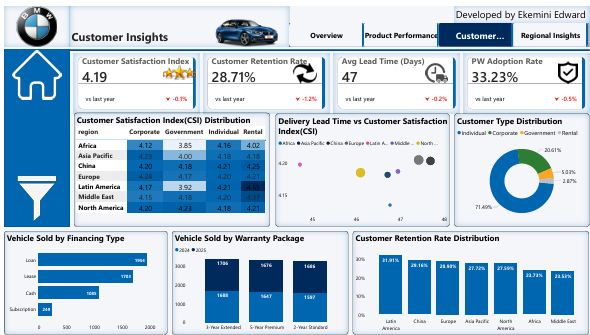

Layout of this report page (visuals, bound fields, positions):
{"tool":"powerbi","page":{"name":"Customer Insights","canvas":[1920,1080],"ordinal":2},"visuals":[{"type":"shape","box":[0,141.2,215.1,582.6],"z":0},{"type":"image","box":[0,560.2,215.1,145.6],"z":0,"group":"g1"},{"type":"shape","box":[215.1,125.5,1705.1,38.1],"z":1000},{"type":"image","box":[687.9,35.9,219.6,107.6],"z":2000},{"type":"image","box":[0,0,216,134.4],"z":3000},{"type":"textbox","box":[216,0,718.5,134.4],"z":4000},{"type":"image","box":[0,145.6,215.1,161.3],"z":5000},{"type":"cardVisual","fields":{"Data":["_Measures.Avg Customer Satisfaction"]},"box":[228.5,154.6,412.3,197.2],"z":6000},{"type":"cardVisual","fields":{"Data":["_Measures.Retention Rate"]},"box":[655.2,154.6,412,197.2],"z":7000},{"type":"cardVisual","fields":{"Data":["_Measures.PW Adoption Rate"]},"box":[1508,154.6,412.3,197.2],"z":8000},{"type":"cardVisual","fields":{"Data":["_Measures.Avg Delivery Lead Time"]},"box":[1081.6,154.6,412,197.2],"z":9000},{"type":"donutChart","title":"Customer Type Distribution","fields":{"Y":["_Measures.Revenue"],"Category":["Transaction_Fact.customer_type"]},"box":[1476.6,351.8,443.7,372],"z":10000},{"type":"clusteredBarChart","title":"Vehicle Sold by Financing Type","fields":{"Category":["Transaction_Fact.financing_type"],"Y":["_Measures.Vehicles Sold"]},"box":[0,739.4,535.5,340.6],"z":11000},{"type":"columnChart","title":"Vehicle Sold by Warranty Package","fields":{"Series":["Date.Year"],"Category":["Transaction_Fact.warranty_package"],"Y":["_Measures.Vehicles Sold"]},"box":[551.2,739.4,578.1,340.6],"z":12000},{"type":"pivotTable","title":"Customer Satisfaction Index(CSI) Distribution","fields":{"Rows":["Transaction_Fact.region"],"Columns":["Transaction_Fact.customer_type"],"Values":["_Measures.Satisfaction Index"]},"box":[228.5,349.5,643.1,374.2],"z":13000},{"type":"scatterChart","title":"Delivery Lead Time vs Customer Satisfaction Index(CSI)","fields":{"Size":["_Measures.Vehicles Sold"],"X":["_Measures.Avg Delivery Lead Time"],"Y":["_Measures.Satisfaction Index"],"Series":["Transaction_Fact.region"]},"box":[889.5,351.8,571.4,372],"z":14000},{"type":"clusteredColumnChart","title":"Customer Retention Rate Distribution","fields":{"Category":["Transaction_Fact.region"],"Y":["_Measures.Retention Rate"]},"box":[1145,739.4,775.3,340.6],"z":15000},{"type":"pageNavigator","box":[934.5,55.1,985.2,79.3],"z":16000},{"type":"group","id":"g1","title":"Customer Insights Filter","box":[0,141.1,451.8,897.1],"z":17000},{"type":"image","box":[522.4,187.3,105.8,66.1],"z":18000},{"type":"image","box":[934.5,187.3,105.8,66.1],"z":19000},{"type":"image","box":[1362.1,182.9,114.6,72.7],"z":20000},{"type":"image","box":[1798.5,180.7,103.6,72.7],"z":21000},{"type":"textbox","box":[1476.7,0,443,55.1],"z":22000}]}

Visuals, with their boxes in screenshot pixels (x1, y1, x2, y2), scaled from the page's 1920x1080 canvas onto the 590x335 screenshot:
shape: {"left": 0, "top": 44, "right": 66, "bottom": 225}
image: {"left": 0, "top": 174, "right": 66, "bottom": 219}
shape: {"left": 66, "top": 39, "right": 589, "bottom": 51}
image: {"left": 211, "top": 11, "right": 279, "bottom": 45}
image: {"left": 0, "top": 0, "right": 66, "bottom": 42}
textbox: {"left": 66, "top": 0, "right": 287, "bottom": 42}
image: {"left": 0, "top": 45, "right": 66, "bottom": 95}
cardVisual - _Measures.Avg Customer Satisfaction: {"left": 70, "top": 48, "right": 197, "bottom": 109}
cardVisual - _Measures.Retention Rate: {"left": 201, "top": 48, "right": 328, "bottom": 109}
cardVisual - _Measures.PW Adoption Rate: {"left": 463, "top": 48, "right": 589, "bottom": 109}
cardVisual - _Measures.Avg Delivery Lead Time: {"left": 332, "top": 48, "right": 459, "bottom": 109}
"Customer Type Distribution" donutChart: {"left": 454, "top": 109, "right": 589, "bottom": 225}
"Vehicle Sold by Financing Type" clusteredBarChart: {"left": 0, "top": 229, "right": 165, "bottom": 334}
"Vehicle Sold by Warranty Package" columnChart: {"left": 169, "top": 229, "right": 347, "bottom": 334}
"Customer Satisfaction Index(CSI) Distribution" pivotTable: {"left": 70, "top": 108, "right": 268, "bottom": 224}
"Delivery Lead Time vs Customer Satisfaction Index(CSI)" scatterChart: {"left": 273, "top": 109, "right": 449, "bottom": 225}
"Customer Retention Rate Distribution" clusteredColumnChart: {"left": 352, "top": 229, "right": 589, "bottom": 334}
pageNavigator: {"left": 287, "top": 17, "right": 589, "bottom": 42}
"Customer Insights Filter" group: {"left": 0, "top": 44, "right": 139, "bottom": 322}
image: {"left": 161, "top": 58, "right": 193, "bottom": 79}
image: {"left": 287, "top": 58, "right": 320, "bottom": 79}
image: {"left": 419, "top": 57, "right": 454, "bottom": 79}
image: {"left": 553, "top": 56, "right": 584, "bottom": 79}
textbox: {"left": 454, "top": 0, "right": 589, "bottom": 17}
